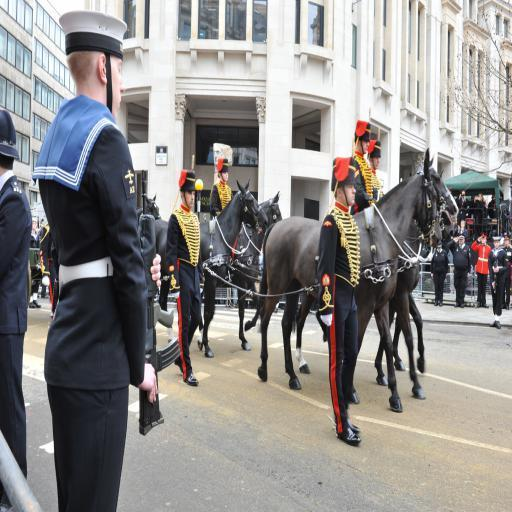horse: (256, 140, 444, 415), (291, 151, 460, 401), (153, 179, 270, 358), (321, 222, 455, 374), (198, 188, 284, 352), (138, 192, 162, 218)
